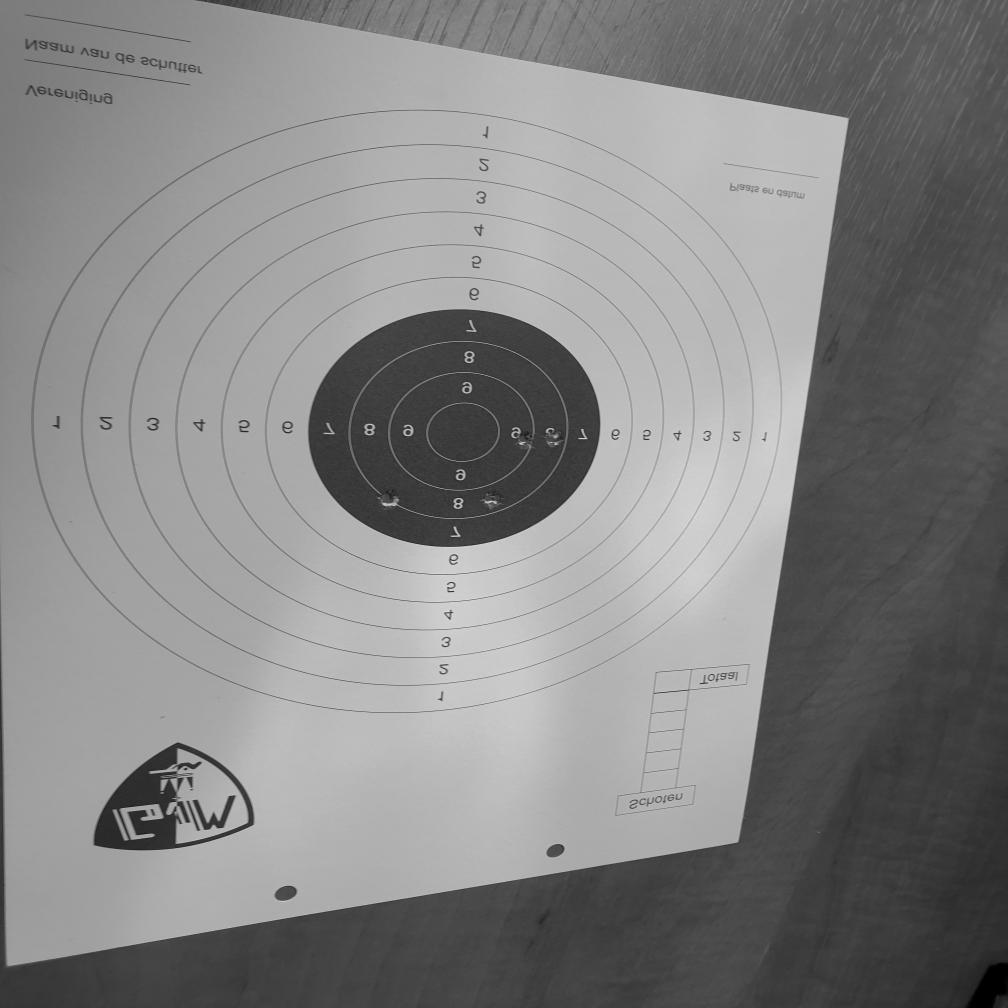8: (376, 490, 402, 510), (480, 490, 506, 509), (542, 428, 565, 448)
9: (515, 430, 533, 449)
Target: (30, 104, 785, 712)
black_contour: (309, 308, 601, 550)
